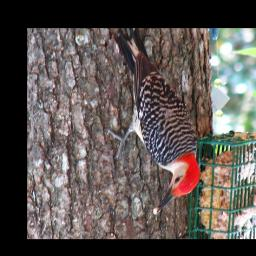Woodpecker: (103, 29, 200, 214)
